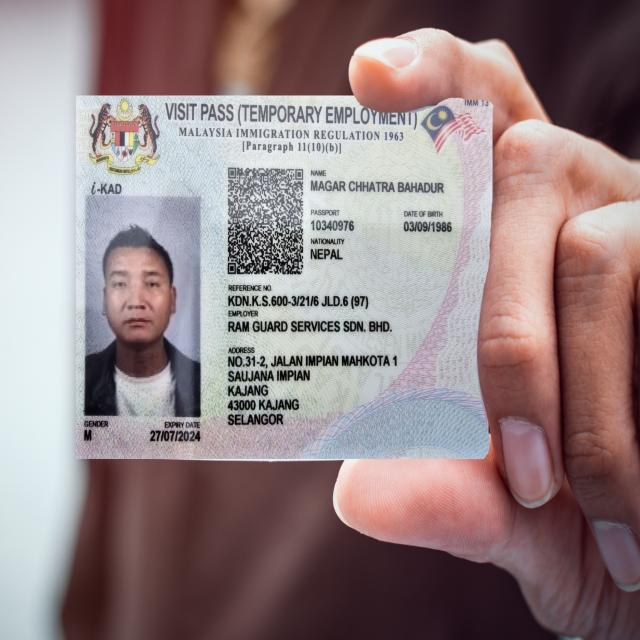ikad-temp: (69, 86, 498, 468)
